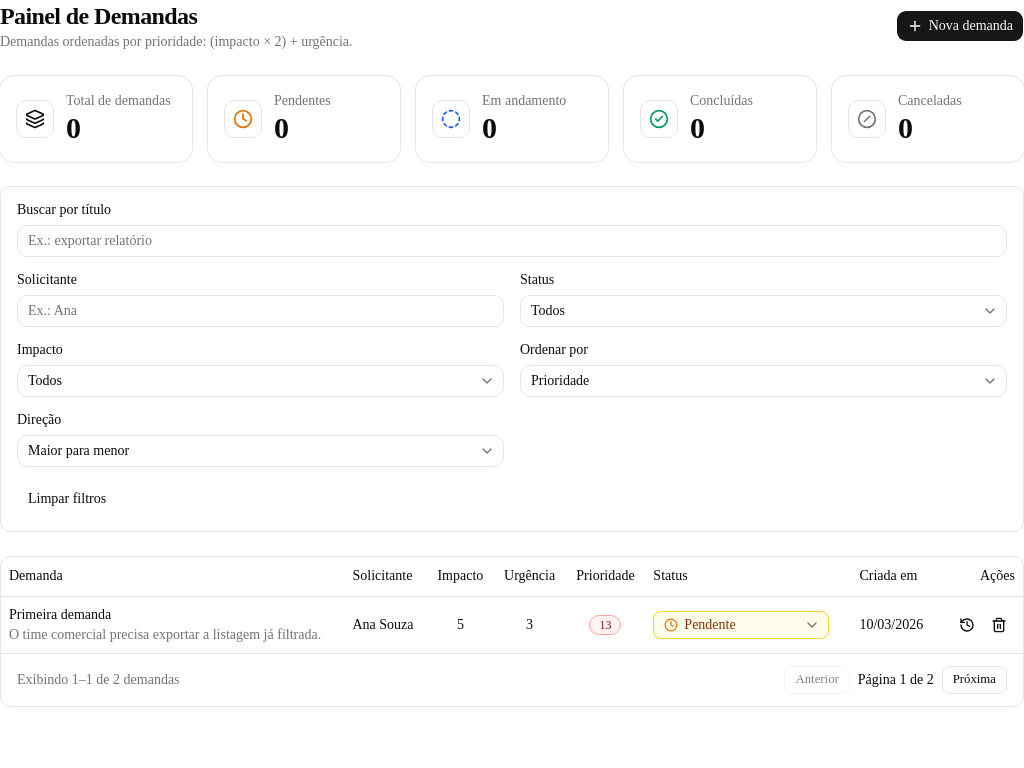
Test: DemandsPanel › volta para a última página válida ao remover o último item dela
Expected: the table is shown, [1,556,1023,653]
What coordinates should you click on to do the following:
click the button "Próxima"
I would click on:
 (974, 680)
Its box is [942,666,1007,694].
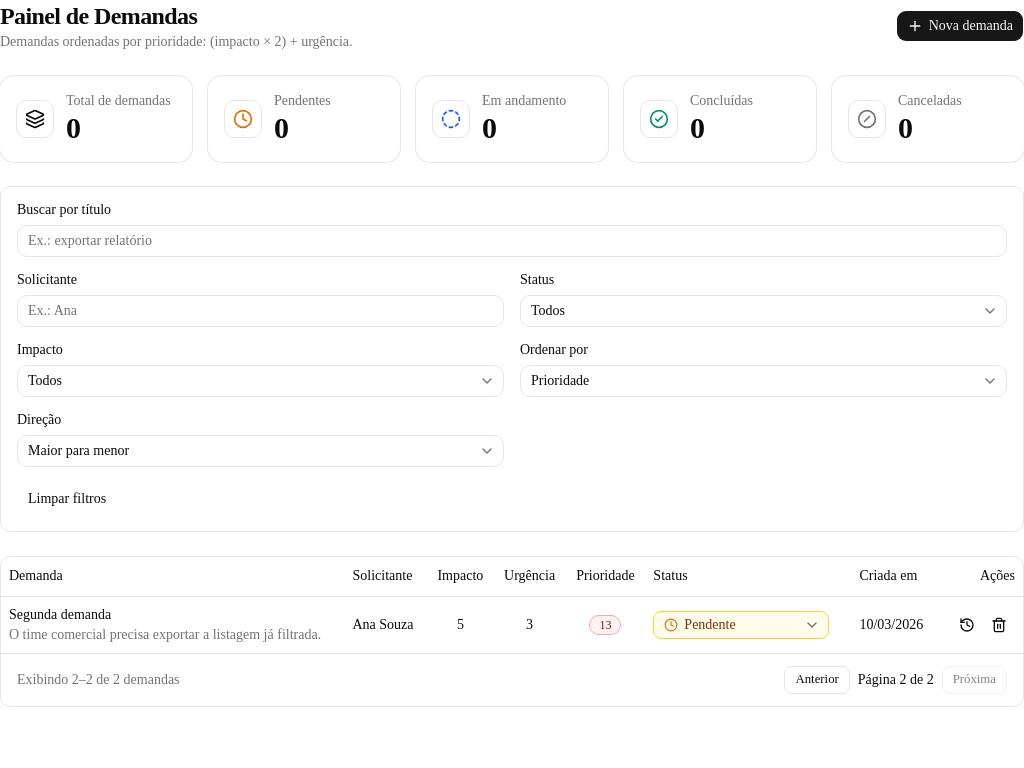
Expected: the text "Página 2 de 2" is shown, [858,670,934,690]
What coordinates should you click on to do the following:
click the button named "Remover demanda"
I would click on:
 (999, 625)
Its box is [983,609,1015,641].
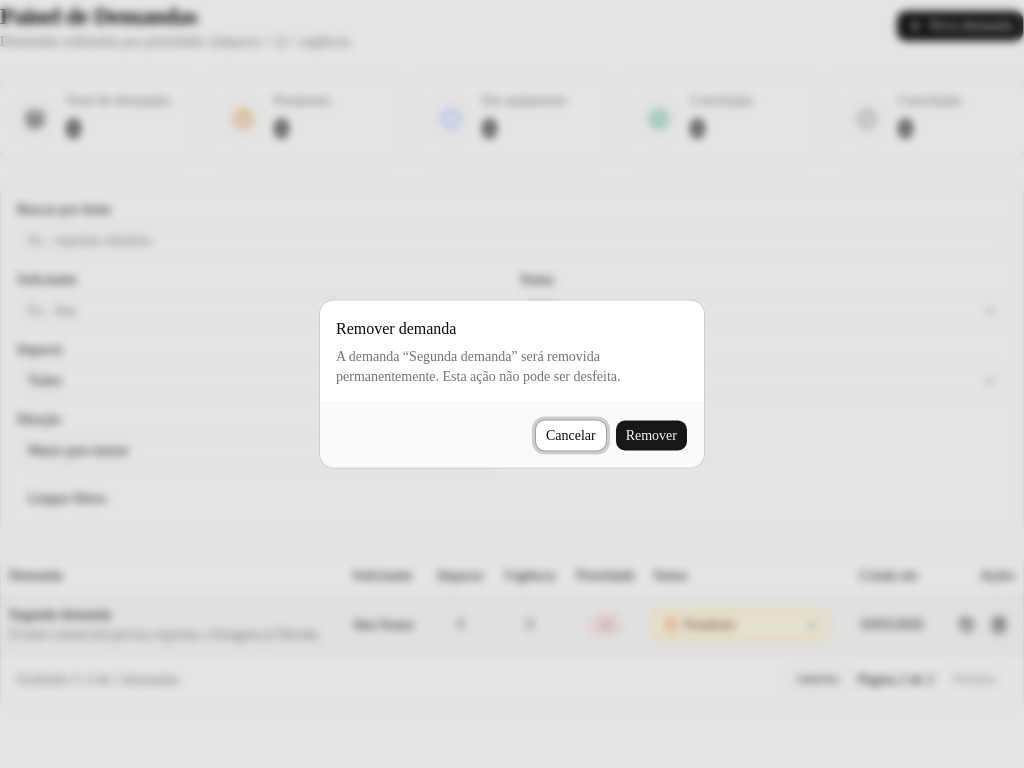
What coordinates should you click on to do the following:
click the button "Remover"
I would click on:
 (651, 436)
Its box is [615,420,688,452].
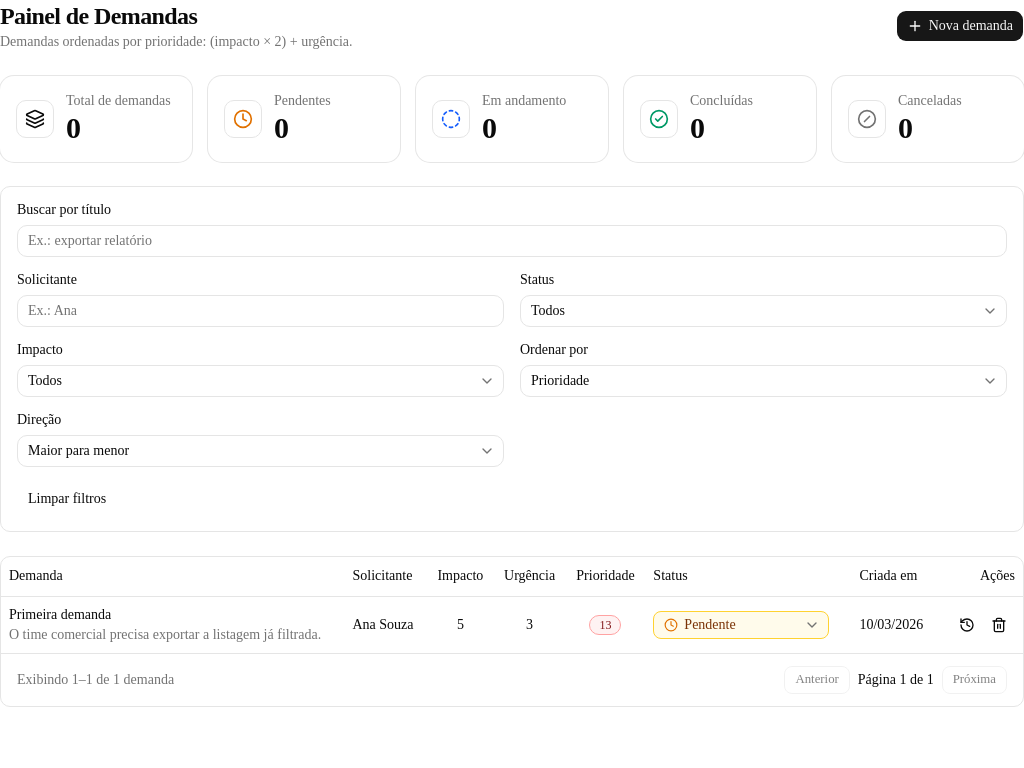
Expected: the text "Página 1 de 1" is shown, [858,670,934,690]
